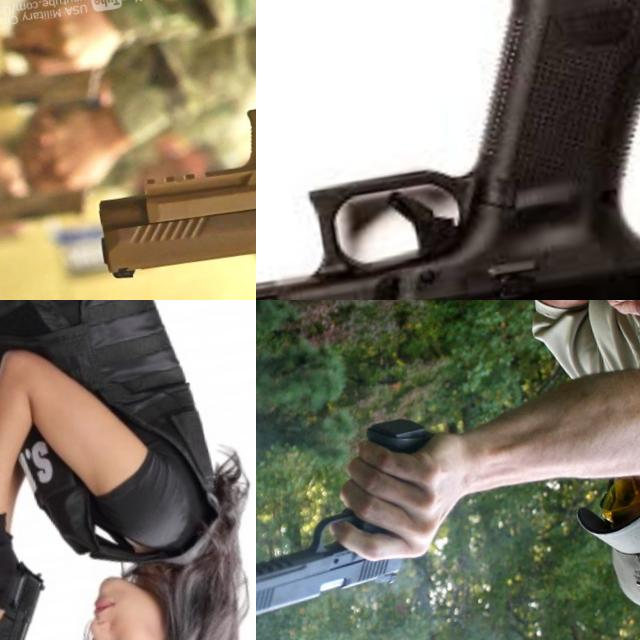handgun: (256, 0, 640, 300), (54, 0, 256, 296), (256, 406, 467, 632), (0, 523, 64, 640)
